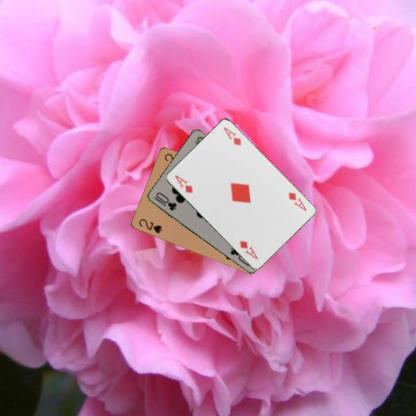10c: (152, 190, 178, 212)
2s: (136, 216, 163, 235)
Ad: (172, 172, 194, 194), (286, 190, 308, 212)
